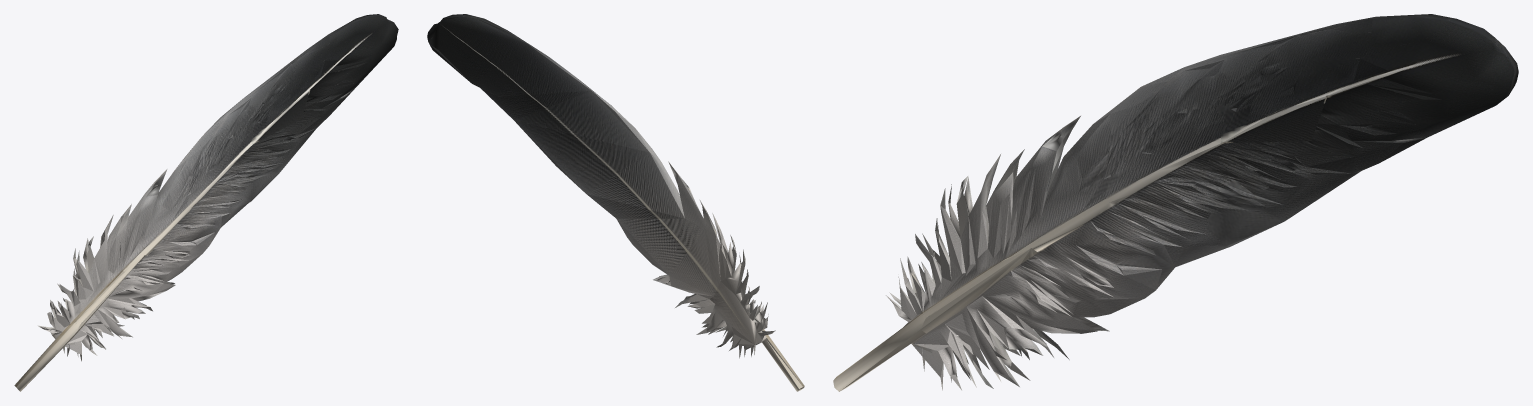
Rendered from modelo.fbx.
3 views of the same model, side by side, from view 1: azimuth 30°, elevation 25°; view 2: azimuth 150°, elevation 25°; view 3: azimuth 330°, elevation 25° (orthographic). The views are drawn at different scales.
Visible parts, largest first — view 1: Mesh_0; view 2: Mesh_0; view 3: Mesh_0.
Boxes of the visible parts, <box> form: Mesh_0: <box>14,14,398,391</box>; Mesh_0: <box>427,14,804,391</box>; Mesh_0: <box>833,14,1518,391</box>.
Size of the model in its own units: 190 by 140 by 14.02.
1 material, 1 textured.
